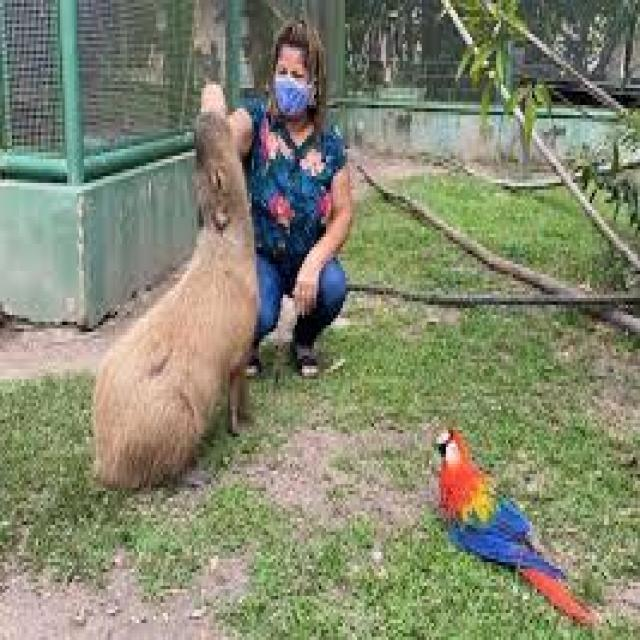capy: (89, 107, 261, 493)
